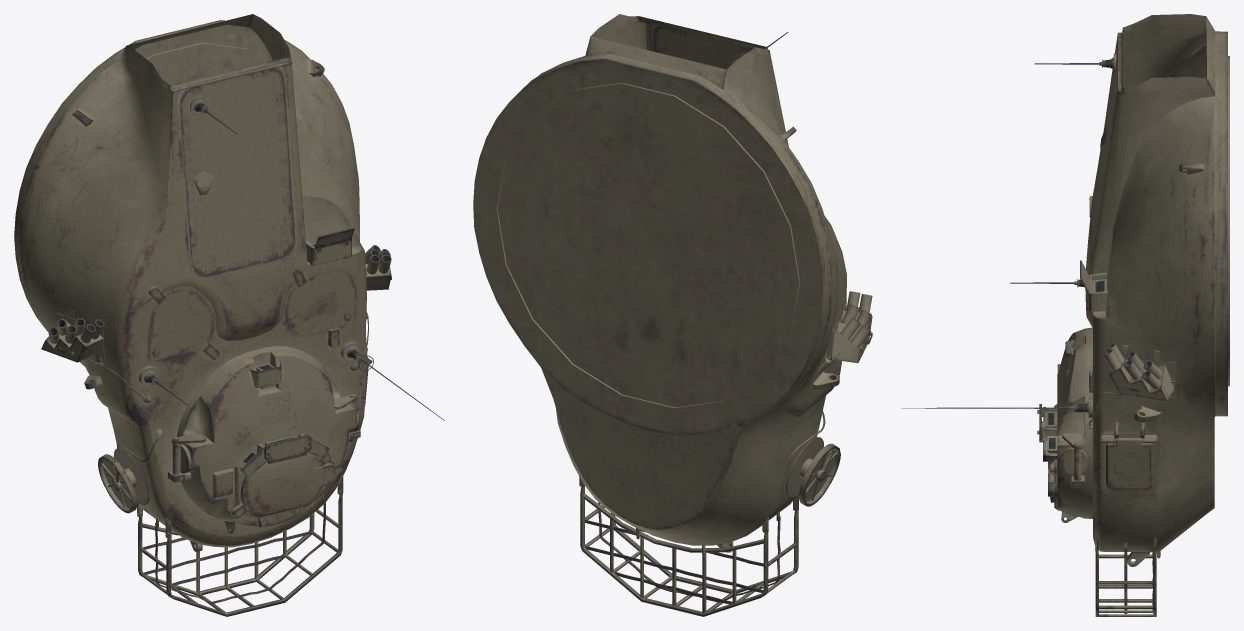
File: Turret_01.glb
The picture shows the model from 3 angles, left to right: view 1: azimuth 30°, elevation 25°; view 2: azimuth 150°, elevation 25°; view 3: azimuth 270°, elevation 25°; orthographic projection. The views are drawn at different scales.
Parts seen in each view (by area): view 1: set_0_group_0; view 2: set_0_group_0; view 3: set_0_group_0.
Part boxes in pixels (left/top/right/bottom): set_0_group_0: left=14, top=14, right=444, bottom=616; set_0_group_0: left=473, top=14, right=872, bottom=616; set_0_group_0: left=901, top=14, right=1229, bottom=616.
Size of the model in its own units: 2.87 by 4.38 by 2.36.
Materials: 1 (1 with a texture image).
